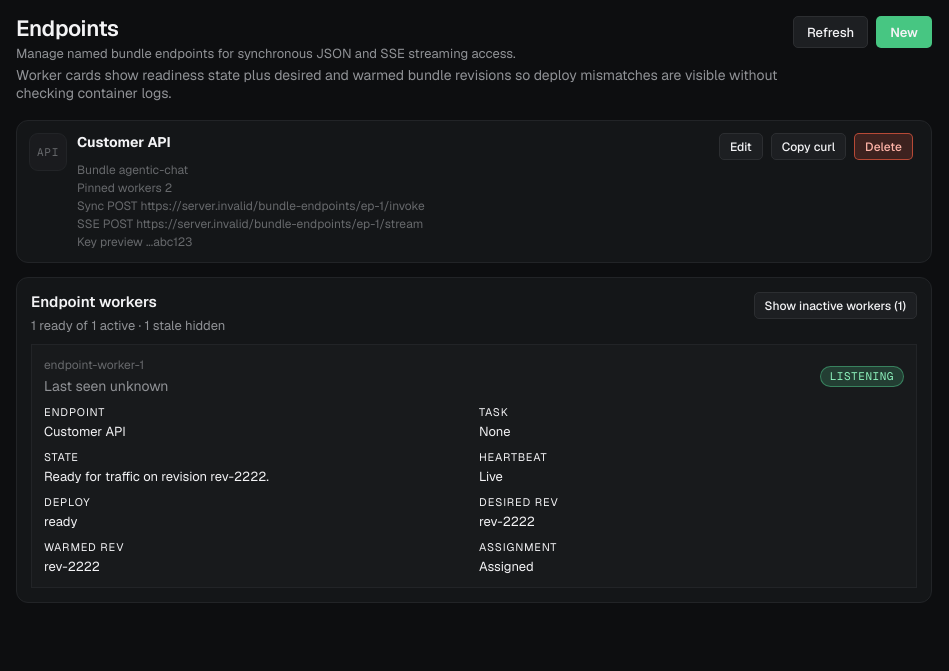
Test: EndpointsPage › shows the authoritative registry roster when one worker stops heartbeating
This screenshot has width=949, height=671.
Expected: the text "1 ready of 1 active · 1 stale hidden" is shown, [31,317,225,334]
Expected: the text "endpoint-worker-1" is shown, [44,357,144,373]
What coordinates should you click on to do the following:
click the button "Show inactive workers (1)"
I would click on:
 (835, 306)
Its box is [754,292,917,319].
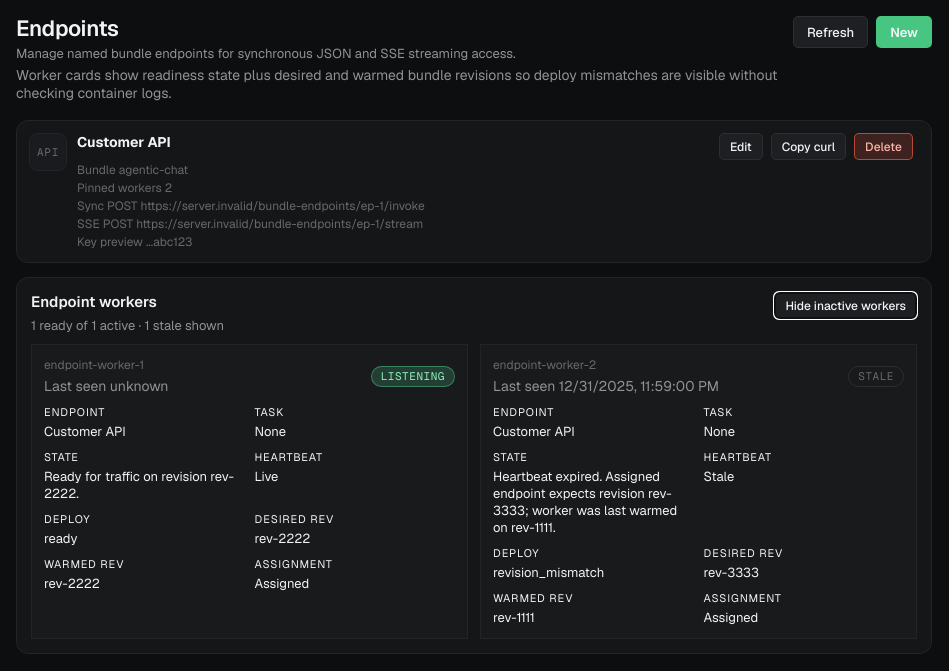
Result: the text "1 ready of 1 active · 1 stale shown" is shown at [31,317,224,334]
Result: the text "endpoint-worker-2" is shown at [493,357,596,373]
Result: the text "Heartbeat expired. Assigned endpoint expects revision rev-3333; worker was last warmed on rev-1111." is shown at [493,468,677,536]
